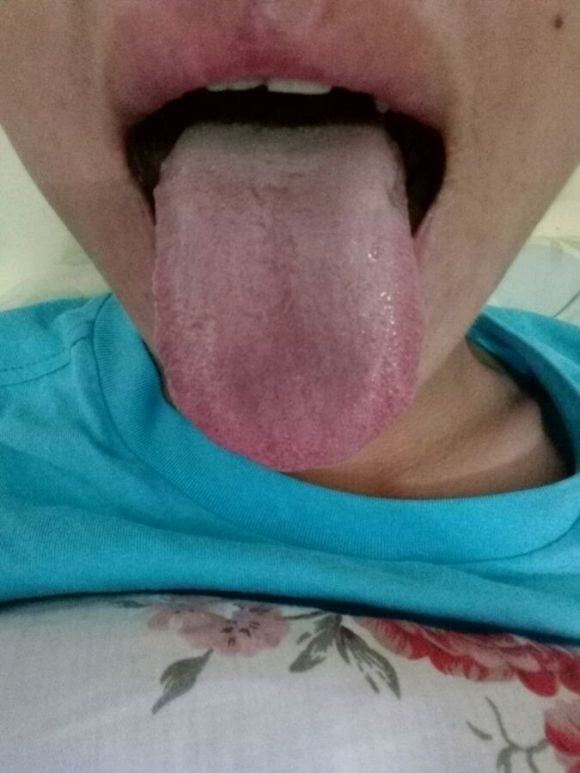baitaishe: (153, 120, 425, 469)
hongshe: (153, 120, 425, 469)
